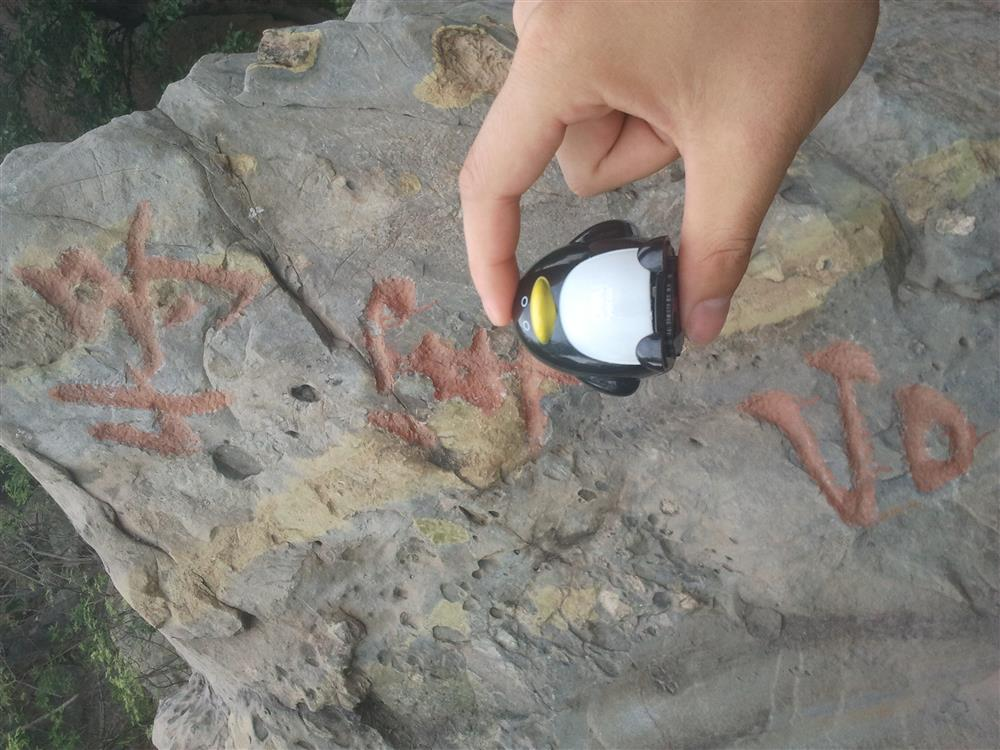deli_penguin: (503, 211, 699, 409)
